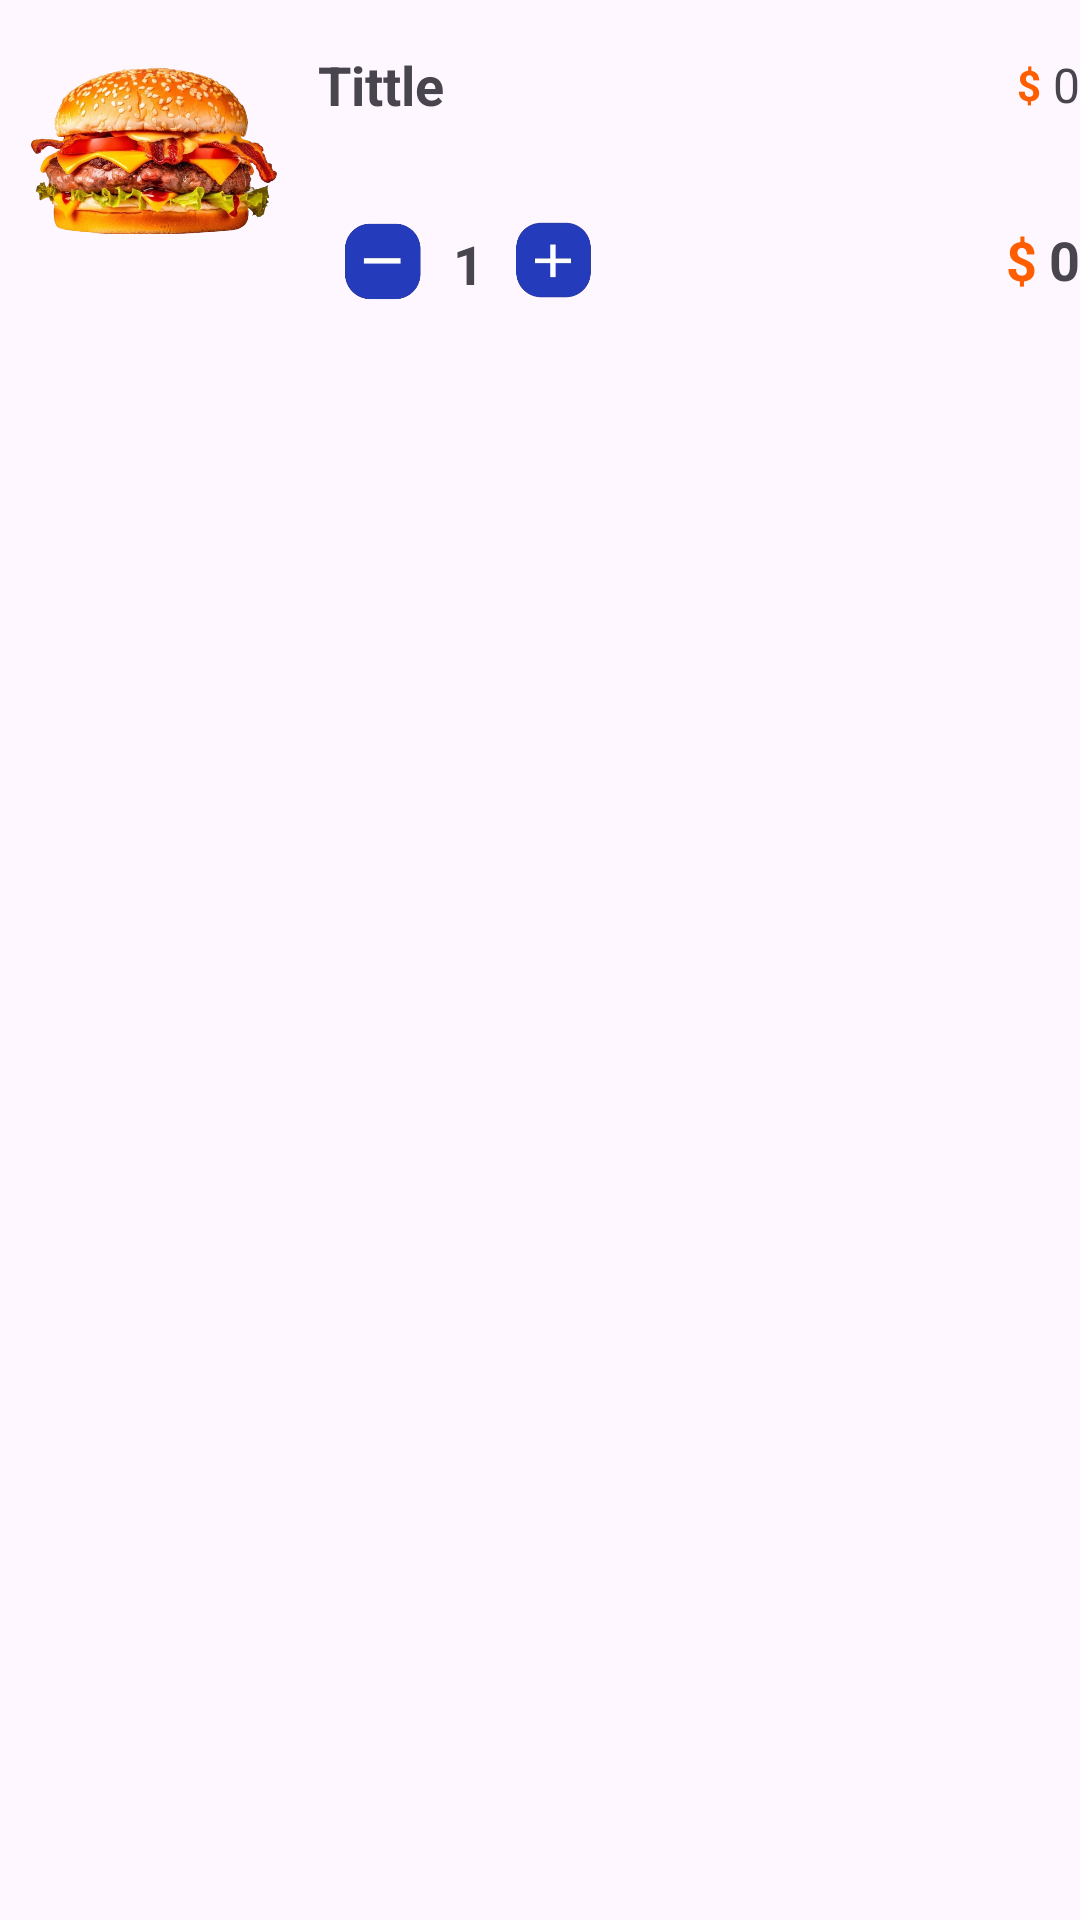

Screen size 1080×1920. Icon name, then its center in pixels as (x,y):
minus: (383,261)
